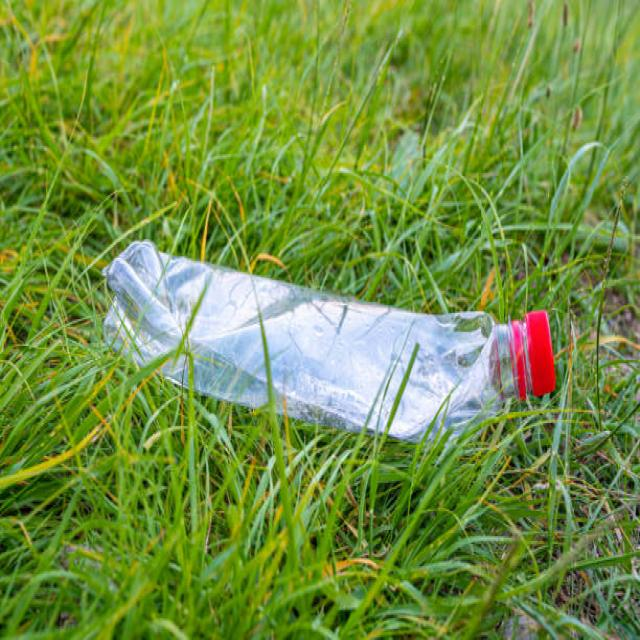plastic: (124, 245, 550, 434)
